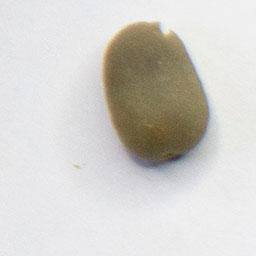peaberry: (100, 18, 213, 168)
